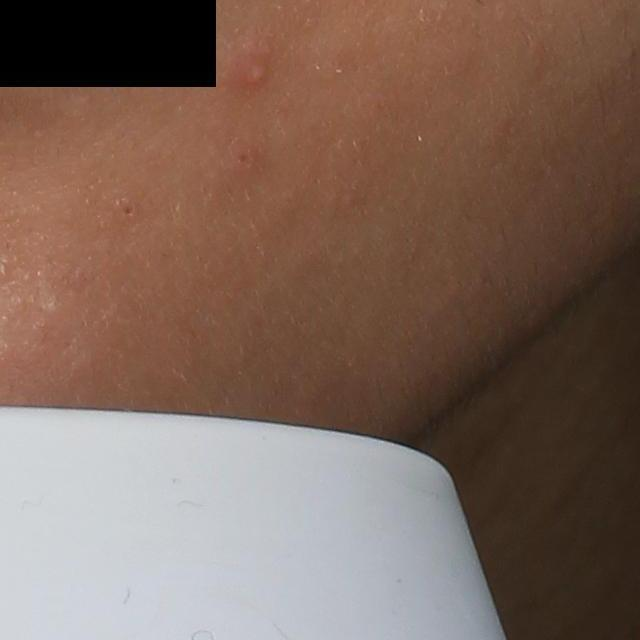comedo: (117, 195, 140, 223)
papule: (223, 137, 267, 182)
